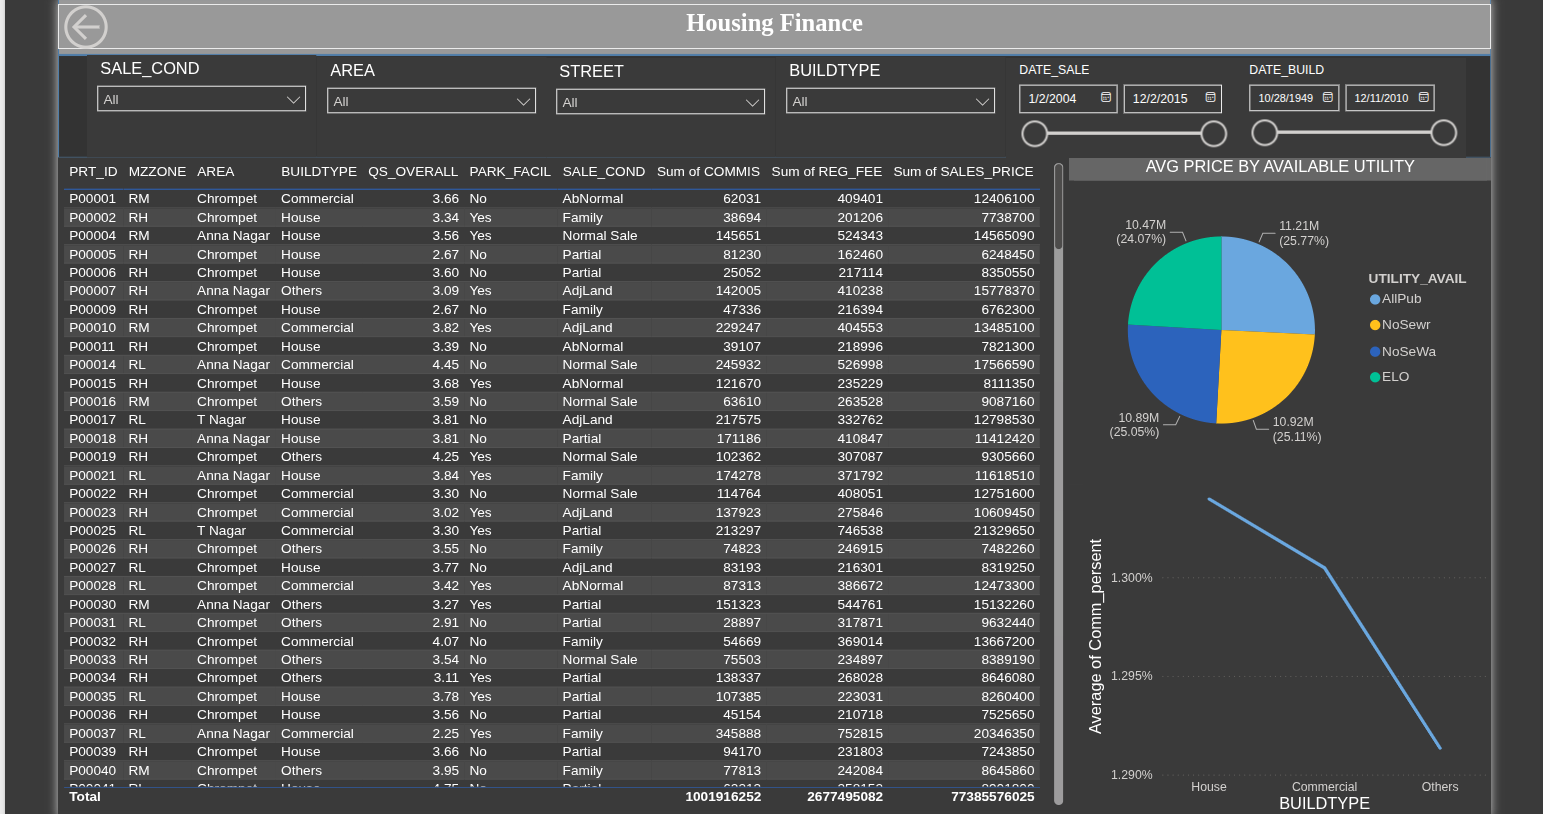

This screenshot's page, from the dashboard's own definition file:
{"tool":"powerbi","page":{"name":"Detailed Page","canvas":[1400,800],"ordinal":1},"visuals":[{"type":"shape","box":[0,54.6,1400,100.5],"z":0},{"type":"shape","box":[0,0,1400,54.6],"z":1000},{"type":"textbox","box":[0,4.9,1400,43.9],"z":2000},{"type":"slicer","fields":{"Values":["cleaned_houseing_sale.AREA"]},"box":[252.7,56.6,224.4,97.6],"z":3000},{"type":"slicer","fields":{"Values":["cleaned_houseing_sale.DATE_BUILD"]},"box":[1150.2,57.6,224.4,97.6],"z":4000},{"type":"slicer","fields":{"Values":["cleaned_houseing_sale.DATE_SALE"]},"box":[925.9,57.6,224.4,97.6],"z":5000},{"type":"slicer","fields":{"Values":["cleaned_houseing_sale.BUILDTYPE"]},"box":[701.5,56.6,224.4,97.6],"z":6000},{"type":"slicer","fields":{"Values":["cleaned_houseing_sale.SALE_COND"]},"box":[28.3,54.6,224.4,100.5],"z":7000},{"type":"slicer","fields":{"Values":["cleaned_houseing_sale.STREET"]},"box":[477.1,57.6,224.4,96.6],"z":8000},{"type":"pieChart","title":"AVG PRICE BY AVAILABLE UTILITY","fields":{"Category":["cleaned_houseing_sale.UTILITY_AVAIL"],"Y":["Avg(cleaned_houseing_sale.SALES_PRICE)"]},"box":[987.3,155.1,412.7,319],"z":9000},{"type":"lineChart","fields":{"Y":["Avg(cleaned_houseing_sale.Comm_persent)"],"Category":["cleaned_houseing_sale.BUILDTYPE"]},"box":[1001,474.1,399,325.9],"z":10000},{"type":"tableEx","fields":{"Values":["cleaned_houseing_sale.PRT_ID","cleaned_houseing_sale.MZZONE","cleaned_houseing_sale.AREA","cleaned_houseing_sale.BUILDTYPE","cleaned_houseing_sale.QS_OVERALL","cleaned_houseing_sale.PARK_FACIL","cleaned_houseing_sale.SALE_COND","Sum(cleaned_houseing_sale.COMMIS)","Sum(cleaned_houseing_sale.REG_FEE)","Sum(cleaned_houseing_sale.SALES_PRICE)"]},"box":[0,155.1,987.3,637.1],"z":11000}]}

Visuals, with their boxes on the page's 1400x800 design canvas (x1, y1, x2, y2). These are canvas units, not pixel positions in the 1543x814 screenshot, which may show the page scaled, cropped or inside an application window:
shape: x1=0 y1=55 x2=1400 y2=155
shape: x1=0 y1=0 x2=1400 y2=55
textbox: x1=0 y1=5 x2=1400 y2=49
slicer - cleaned_houseing_sale.AREA: x1=253 y1=57 x2=477 y2=154
slicer - cleaned_houseing_sale.DATE_BUILD: x1=1150 y1=58 x2=1375 y2=155
slicer - cleaned_houseing_sale.DATE_SALE: x1=926 y1=58 x2=1150 y2=155
slicer - cleaned_houseing_sale.BUILDTYPE: x1=702 y1=57 x2=926 y2=154
slicer - cleaned_houseing_sale.SALE_COND: x1=28 y1=55 x2=253 y2=155
slicer - cleaned_houseing_sale.STREET: x1=477 y1=58 x2=702 y2=154
"AVG PRICE BY AVAILABLE UTILITY" pieChart: x1=987 y1=155 x2=1400 y2=474
lineChart - Avg(cleaned_houseing_sale.Comm_persent) x cleaned_houseing_sale.BUILDTYPE: x1=1001 y1=474 x2=1400 y2=800
tableEx - cleaned_houseing_sale.PRT_ID x cleaned_houseing_sale.MZZONE: x1=0 y1=155 x2=987 y2=792
